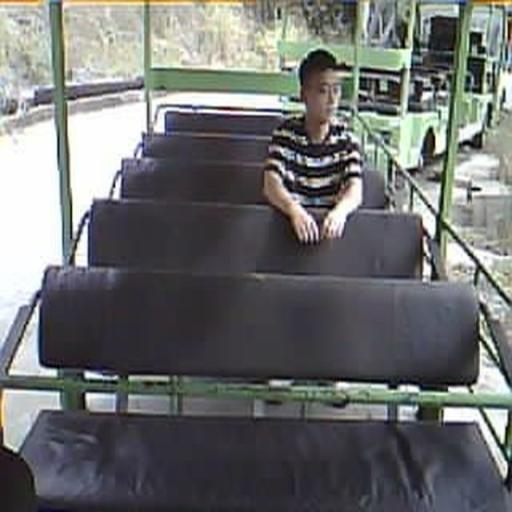persona: (260, 47, 366, 246)
